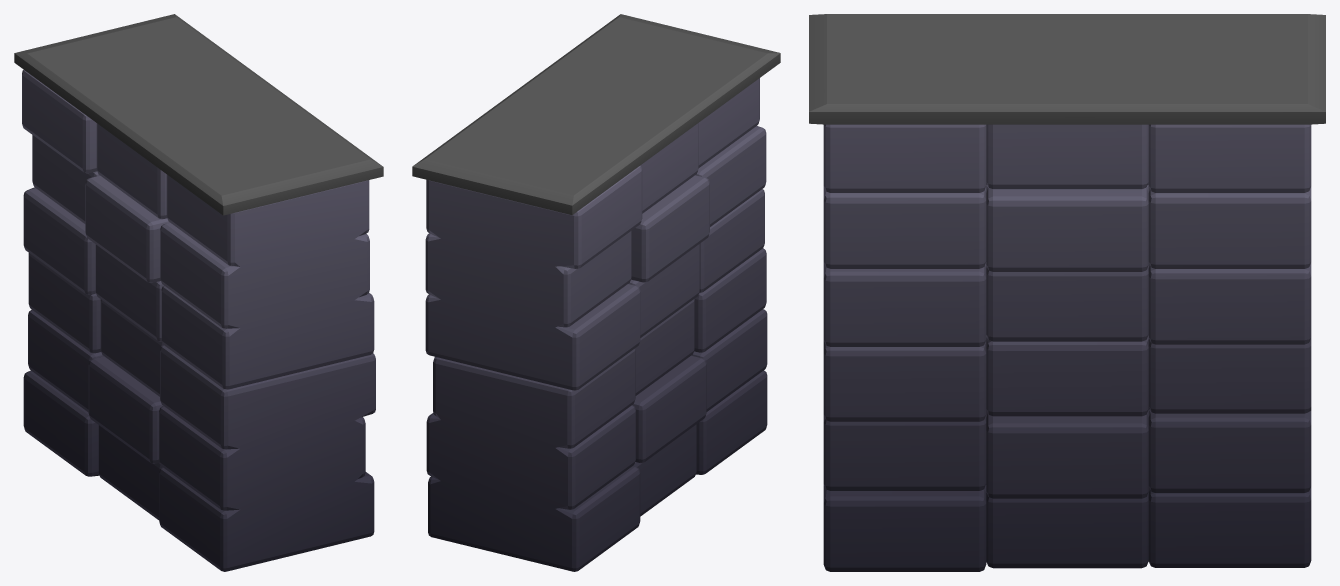
Rendered from Wall2v3.fbx.
The picture shows the model from 3 angles, left to right: view 1: azimuth 30°, elevation 25°; view 2: azimuth 150°, elevation 25°; view 3: azimuth 270°, elevation 25°; orthographic projection. The views are drawn at different scales.
Parts seen in each view (by area): view 1: Cube_Lower, Cube_Upper, Brick_Hat_2; view 2: Cube_Lower, Cube_Upper, Brick_Hat_2; view 3: Cube_Lower, Cube_Upper, Brick_Hat_2.
Boxes of the visible parts, x1=… form: Cube_Lower: x1=23, y1=253, x2=375, y2=571; Cube_Upper: x1=22, y1=70, x2=374, y2=389; Brick_Hat_2: x1=14, y1=14, x2=383, y2=215; Cube_Lower: x1=426, y1=248, x2=767, y2=571; Cube_Upper: x1=425, y1=78, x2=766, y2=390; Brick_Hat_2: x1=412, y1=14, x2=780, y2=214; Cube_Lower: x1=823, y1=335, x2=1311, y2=571; Cube_Upper: x1=823, y1=124, x2=1311, y2=346; Brick_Hat_2: x1=809, y1=14, x2=1325, y2=124.
Bounding box in the file's own units: 316 × 689 × 690.
Materials: 1 (1 with a texture image).
